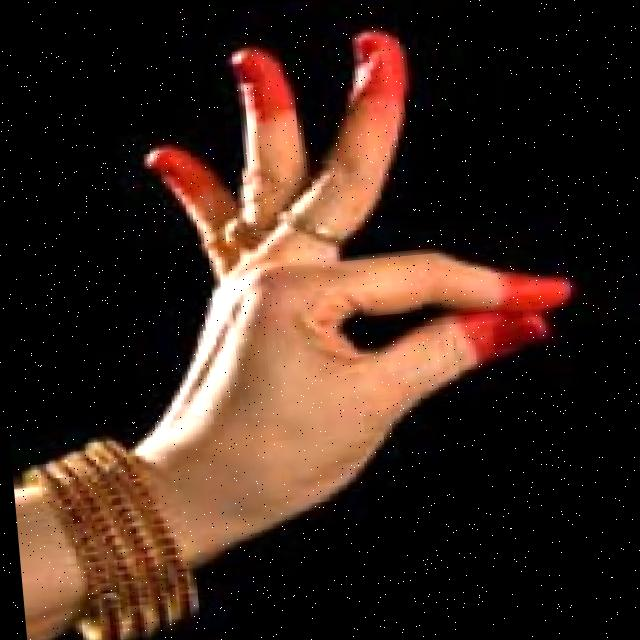Hamsasya: (67, 0, 628, 505)
